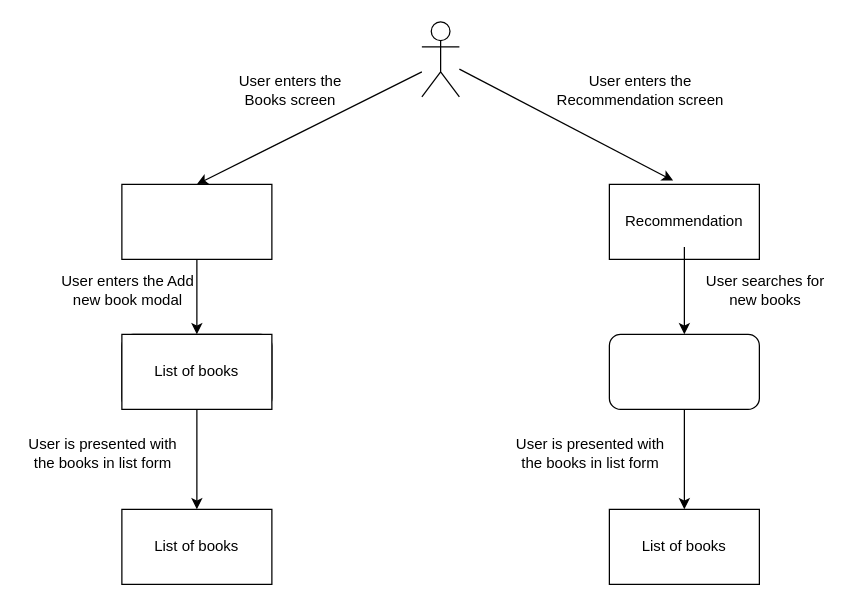
Some shapes in this 855 by 606 pixel diagram are drawn without their labels. The shapes that lost their labels are listed below. From the top down, each one's centre as x and y in pixels, then its label:
At (440,59): "User".
At (196,221): "Books".
At (683,371): "Search books".
